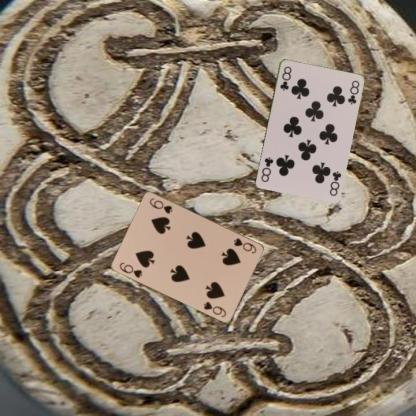6s: (231, 235, 258, 255), (117, 259, 144, 279)
8c: (327, 168, 342, 197), (278, 63, 292, 92)
